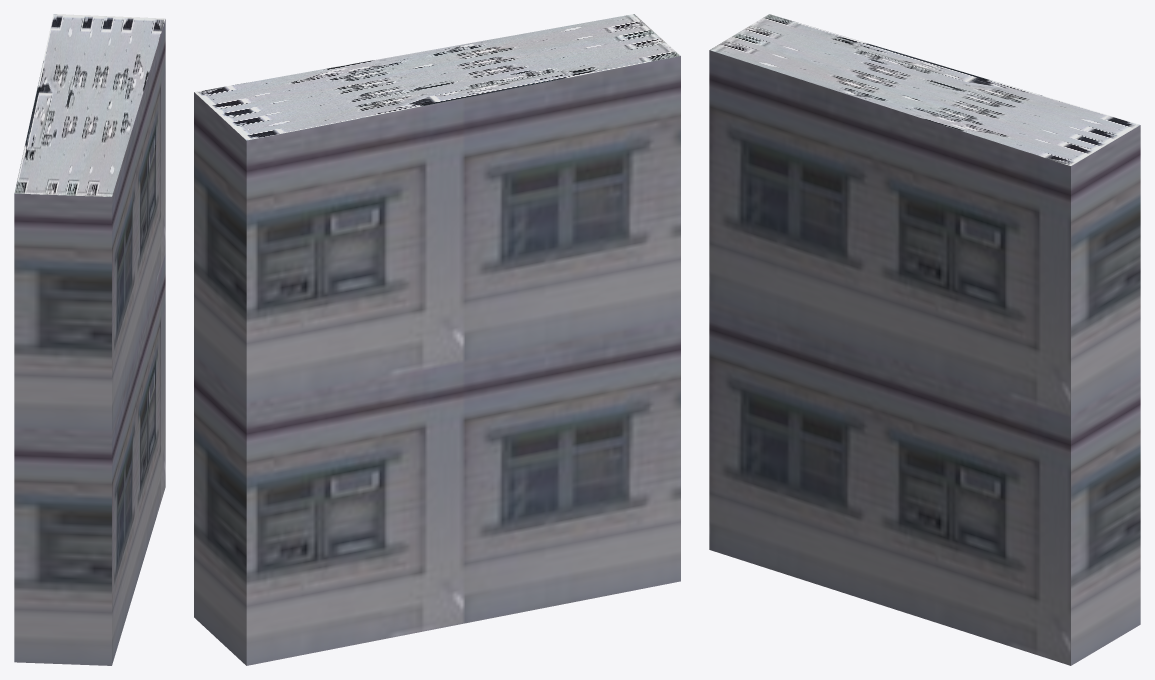
File: ResTex__3342.fbx
3 renders of one model, left to right at view 1: azimuth 30°, elevation 25°; view 2: azimuth 150°, elevation 25°; view 3: azimuth 270°, elevation 25°, orthographic. The views are drawn at different scales.
Visible parts, largest first — view 1: CityEngineMaterial_1_m, CityEngineMaterial_8_m; view 2: CityEngineMaterial_1_m, CityEngineMaterial_8_m; view 3: CityEngineMaterial_1_m, CityEngineMaterial_8_m.
Part boxes in pixels (x1,y1,x2,y2): CityEngineMaterial_1_m: (14,19,165,665); CityEngineMaterial_8_m: (14,14,165,196); CityEngineMaterial_1_m: (194,56,680,665); CityEngineMaterial_8_m: (194,14,680,140); CityEngineMaterial_1_m: (709,50,1140,665); CityEngineMaterial_8_m: (709,14,1139,165).
Size of the model in its own units: 3.92 by 6 by 4.69.
2 materials, 2 textured.
